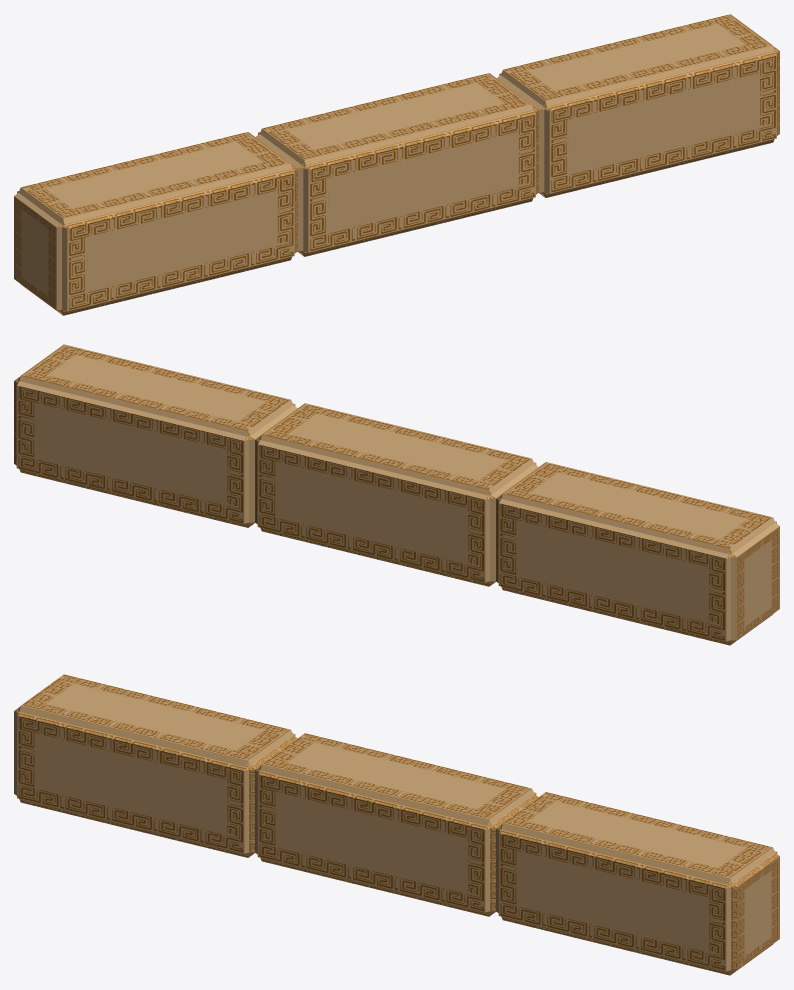
Rendered from lateralreta.fbx.
The picture shows the model from 3 angles, top to bottom: view 1: azimuth 30°, elevation 25°; view 2: azimuth 150°, elevation 25°; view 3: azimuth 330°, elevation 25°; orthographic projection.
Parts seen in each view (by area): view 1: lateralreta; view 2: lateralreta; view 3: lateralreta.
Part boxes in pixels (bbox=[...]): lateralreta: bbox=[14, 14, 779, 315]; lateralreta: bbox=[14, 344, 779, 645]; lateralreta: bbox=[14, 674, 779, 975].
Size of the model in its own units: 960 by 123 by 116.
